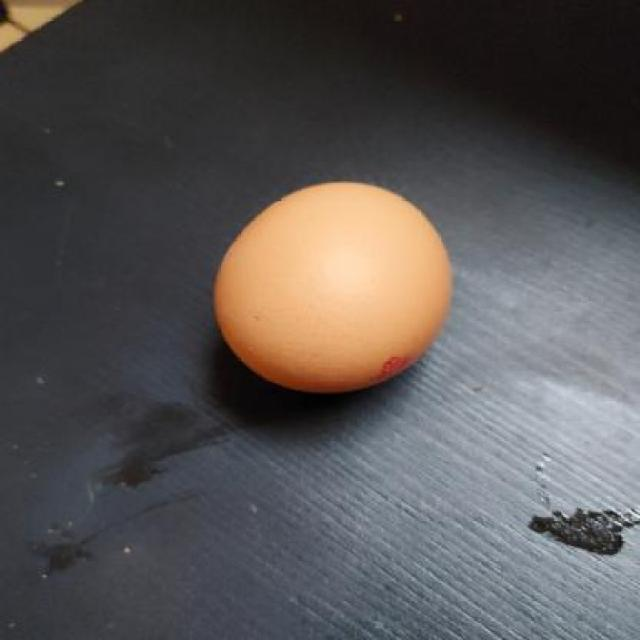biodegradable: (208, 176, 452, 410)
